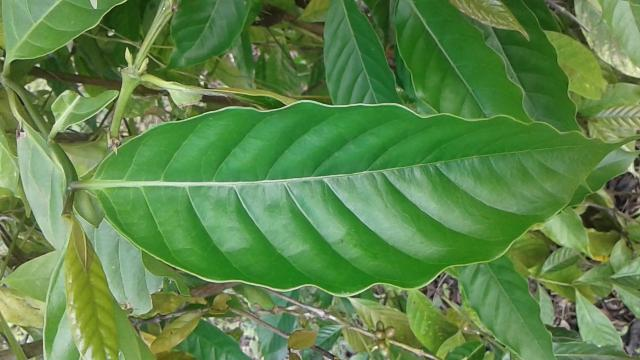healthy: (88, 96, 640, 297)
